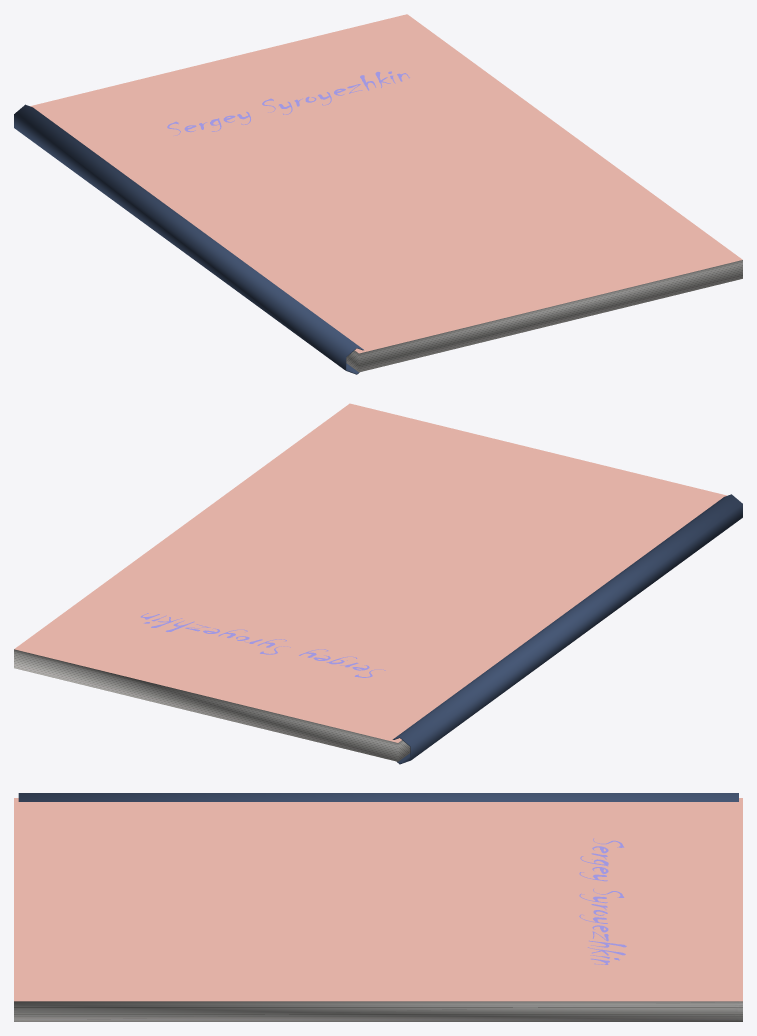
The model's file is notebook.fbx.
3 views of the same model, one above another, from view 1: azimuth 30°, elevation 25°; view 2: azimuth 150°, elevation 25°; view 3: azimuth 270°, elevation 25° (orthographic). The views are drawn at different scales.
Visible parts, largest first — view 1: Notebook; view 2: Notebook; view 3: Notebook.
Boxes of the visible parts, x1,y1,x2,y2 form: Notebook: (14, 14, 742, 374); Notebook: (14, 403, 742, 764); Notebook: (14, 793, 742, 1021).
Bounding box in the file's own units: 146 × 9.69 × 215.
Materials: 4 (1 with a texture image).
